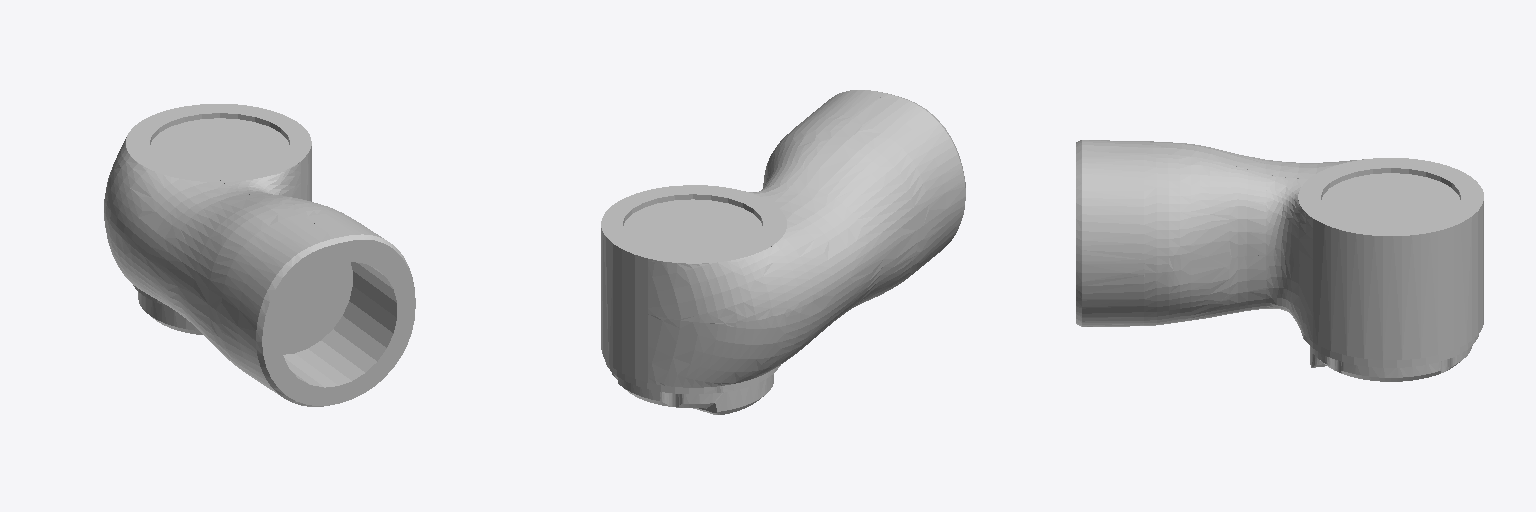
Rendered from left_shoulder_yaw_link_visuals.obj.
3 renders of one model, left to right at view 1: azimuth 30°, elevation 25°; view 2: azimuth 150°, elevation 25°; view 3: azimuth 270°, elevation 25°, orthographic.
Size of the model in its own units: 0.0812 by 0.0745 by 0.1453.